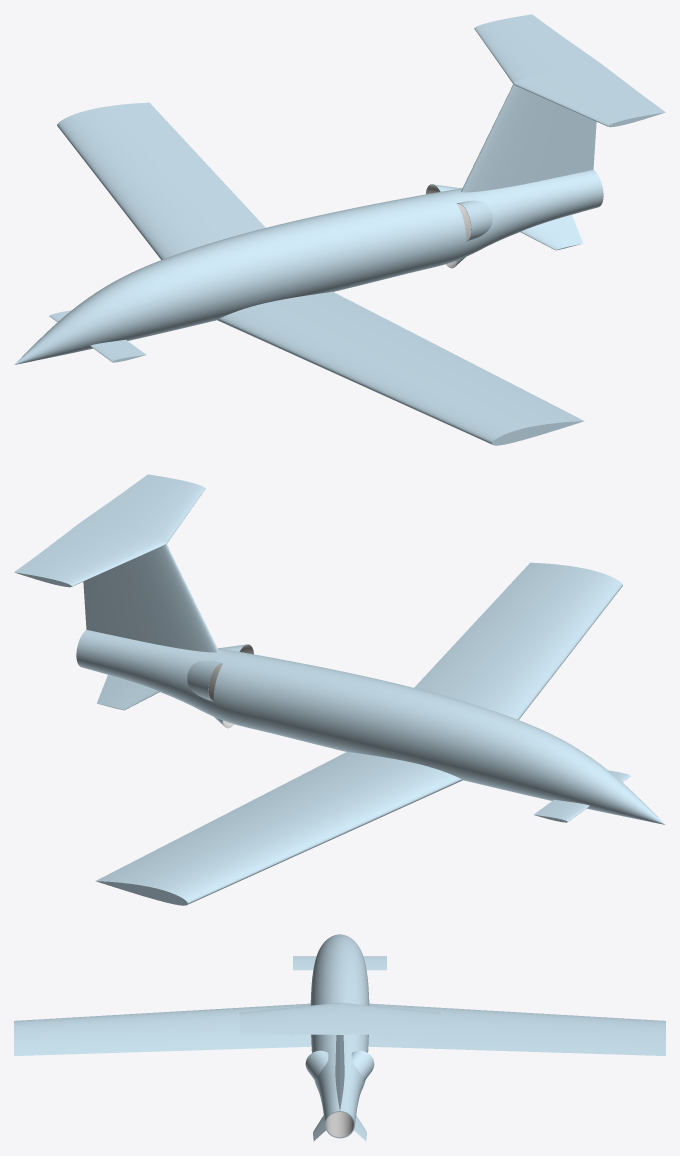
The model's file is Arc Knight Mk2.5.gltf.
3 views of the same model, one above another, from view 1: azimuth 30°, elevation 25°; view 2: azimuth 150°, elevation 25°; view 3: azimuth 270°, elevation 25° (orthographic). The views are drawn at different scales.
Parts seen in each view (by area): view 1: Arc MK2.5; view 2: Arc MK2.5; view 3: Arc MK2.5.
Part boxes in pixels (x1,y1,x2,y2): Arc MK2.5: (14,14,665,445); Arc MK2.5: (14,474,665,905); Arc MK2.5: (14,934,665,1141).
Size of the model in its own units: 1.01 by 0.2812 by 1.3.
